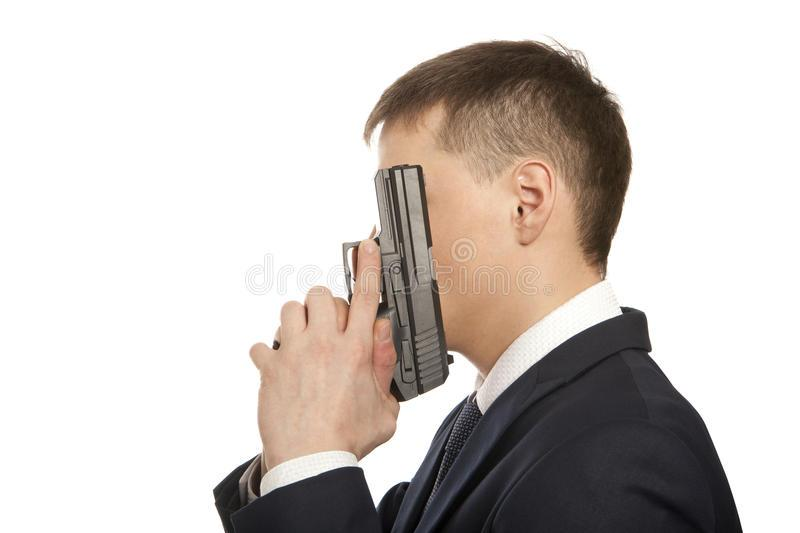weapon: (270, 162, 456, 405)
